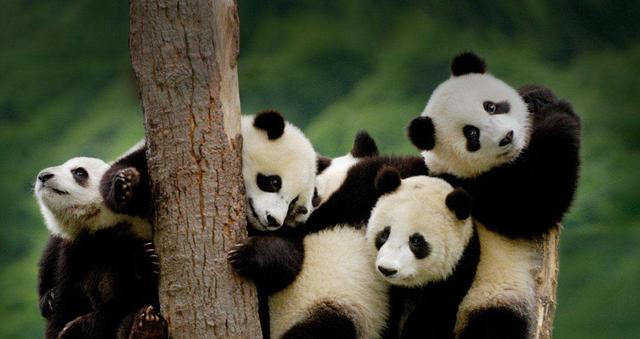panda: (408, 54, 573, 332), (113, 111, 323, 279), (20, 146, 168, 330), (332, 169, 485, 327)
